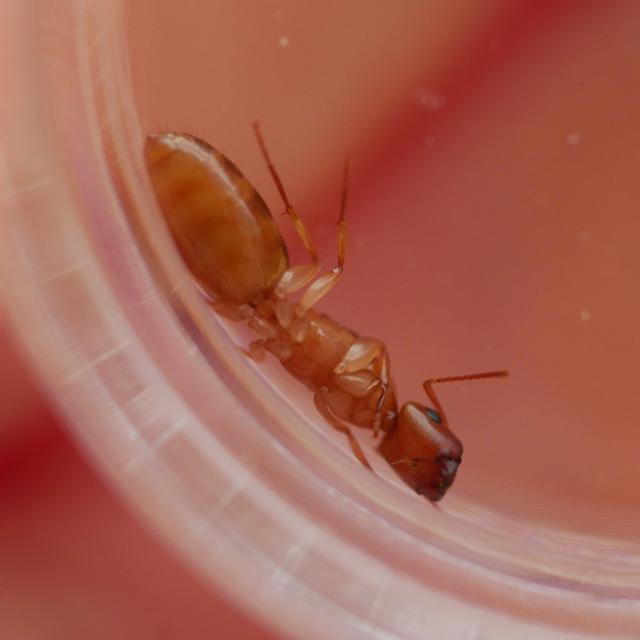Colobopsis: (39, 99, 526, 563)
